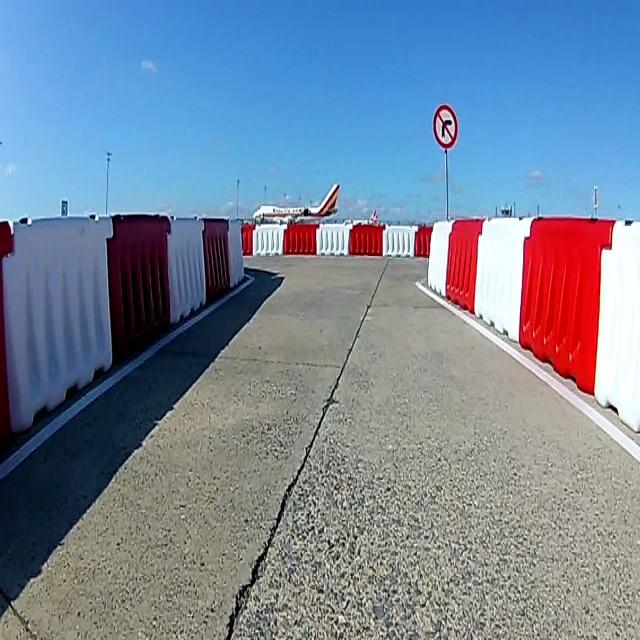sagadonulmez: (433, 103, 458, 149)
